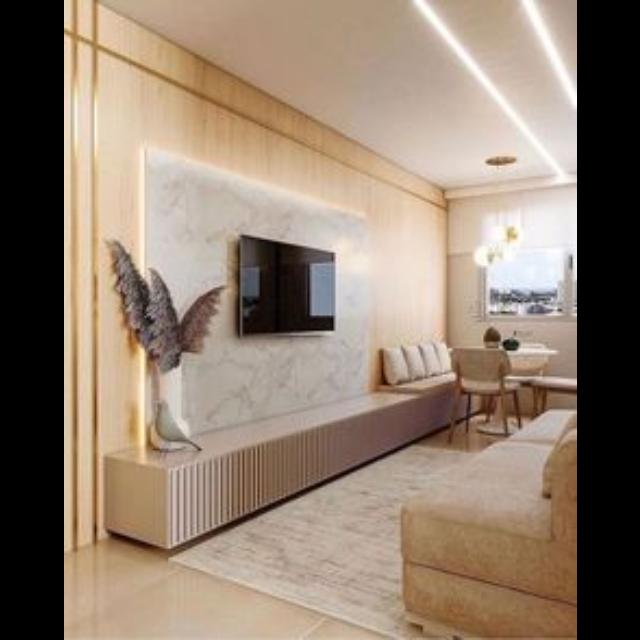Flat-Panel-TV: (237, 237, 333, 340)
